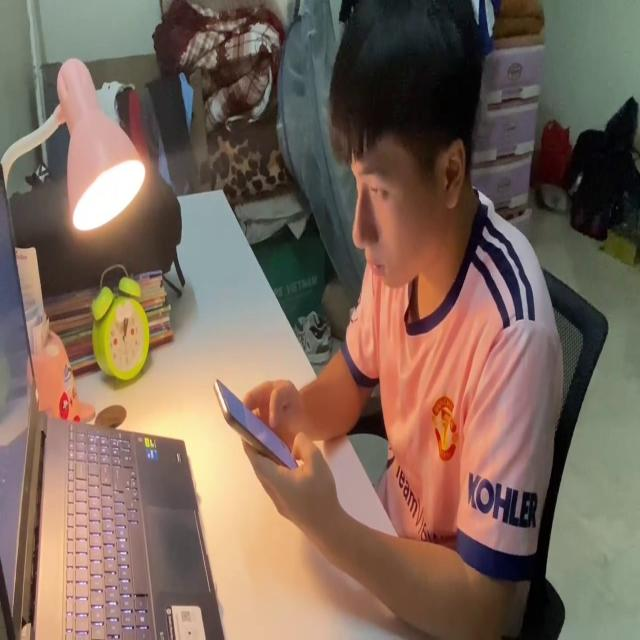laptop: (0, 159, 226, 640)
phone: (211, 374, 308, 474)
student: (238, 0, 566, 640)
